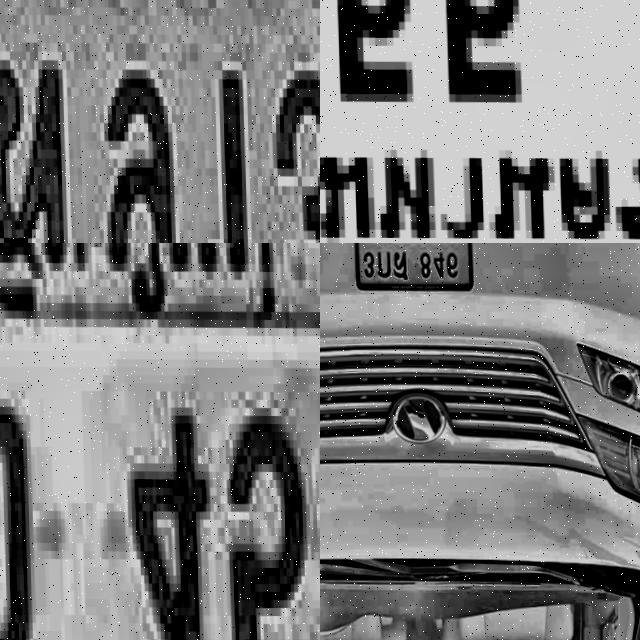license-plate: (0, 243, 320, 640), (0, 0, 320, 243), (320, 0, 640, 243), (351, 243, 475, 295)
